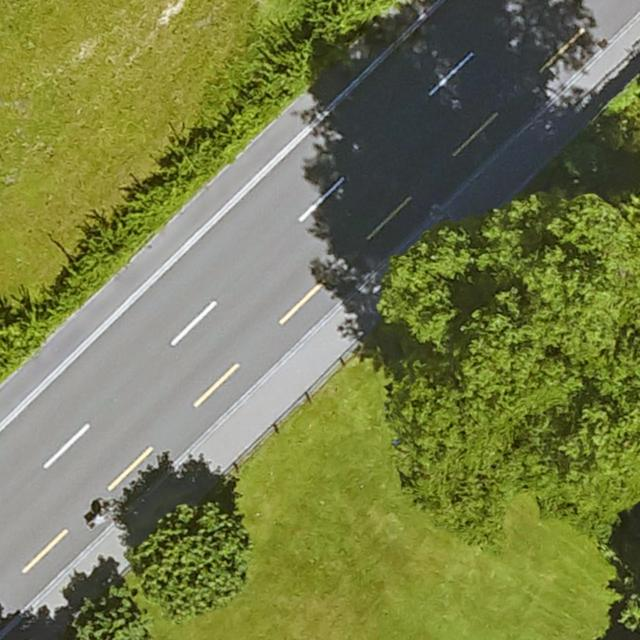tree: (385, 184, 640, 546), (133, 506, 250, 607)
